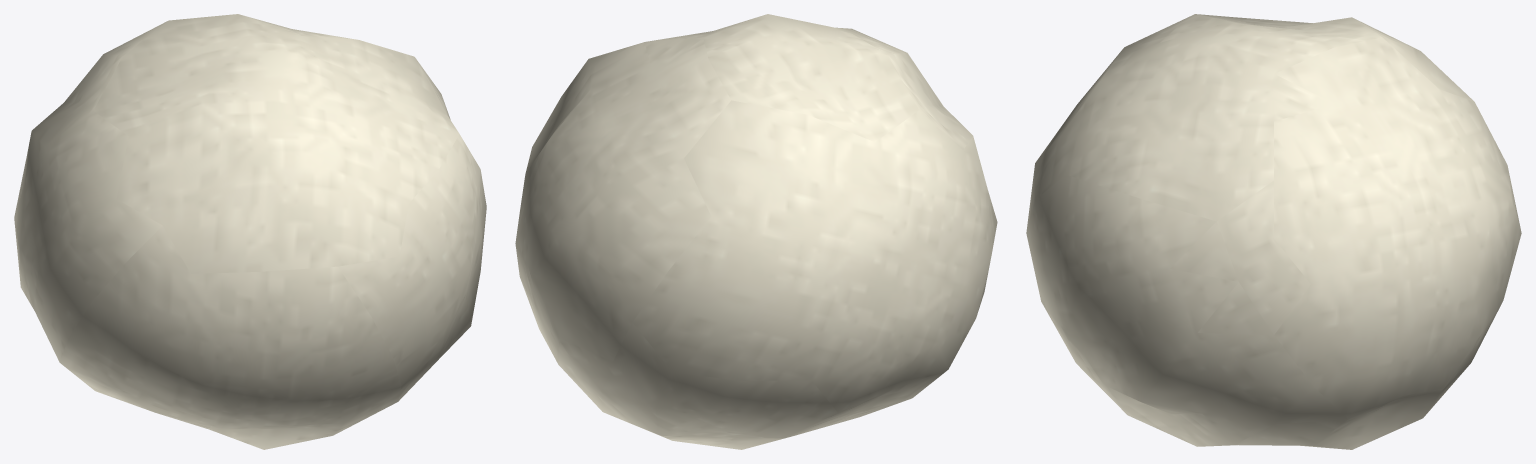
Rendered from sticky-rice-balls.glb.
The picture shows the model from 3 angles, left to right: view 1: azimuth 30°, elevation 25°; view 2: azimuth 150°, elevation 25°; view 3: azimuth 270°, elevation 25°; orthographic projection. The views are drawn at different scales.
Visible parts, largest first — view 1: sticky_rice_ball; view 2: sticky_rice_ball; view 3: sticky_rice_ball.
Part boxes in pixels (x1=…): sticky_rice_ball: x1=14, y1=14, x2=486, y2=449; sticky_rice_ball: x1=515, y1=14, x2=997, y2=449; sticky_rice_ball: x1=1026, y1=14, x2=1521, y2=449.
Bounding box in the file's own units: 0.6387 × 0.5746 × 0.6499.
1 material, 1 textured.
